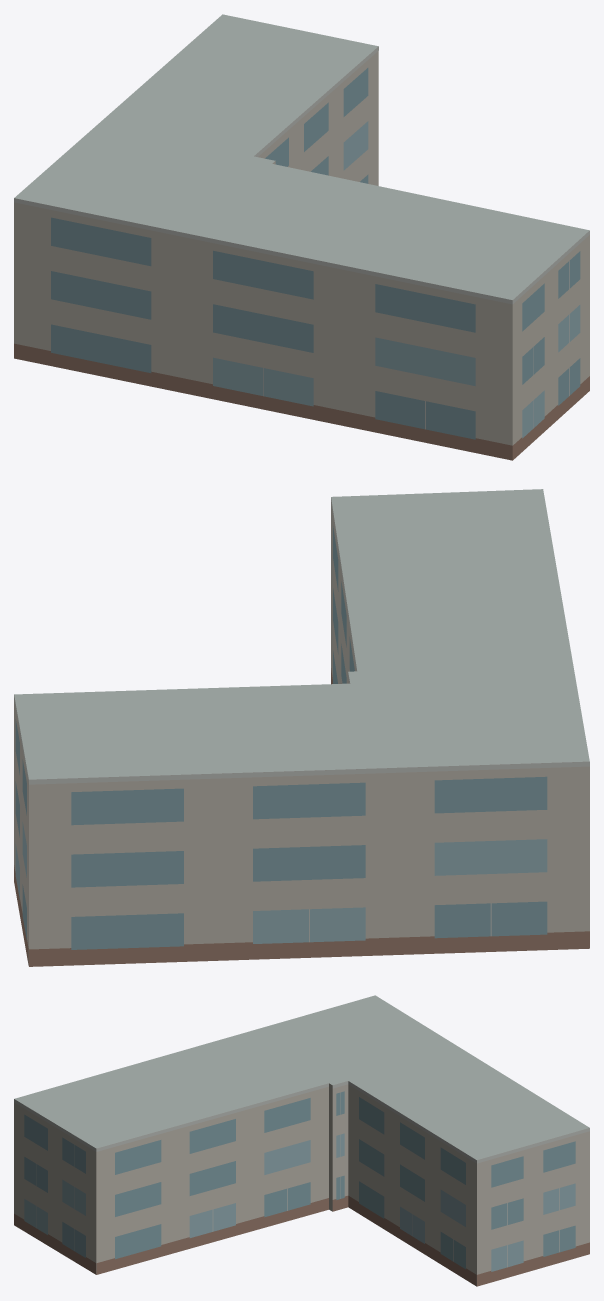
File: survey-upis-32683208.glb
The picture shows the model from 3 angles, top to bottom: view 1: azimuth 30°, elevation 25°; view 2: azimuth 150°, elevation 25°; view 3: azimuth 270°, elevation 25°; orthographic projection. The views are drawn at different scales.
Parts seen in each view (by area): view 1: survey-upis-32683208.tmp; view 2: survey-upis-32683208.tmp; view 3: survey-upis-32683208.tmp.
Boxes of the visible parts, x1,y1,x2,y2 form: survey-upis-32683208.tmp: (14, 14, 589, 460); survey-upis-32683208.tmp: (14, 489, 589, 966); survey-upis-32683208.tmp: (14, 995, 589, 1286).
Size of the model in its own units: 25.62 by 9.15 by 37.8.
